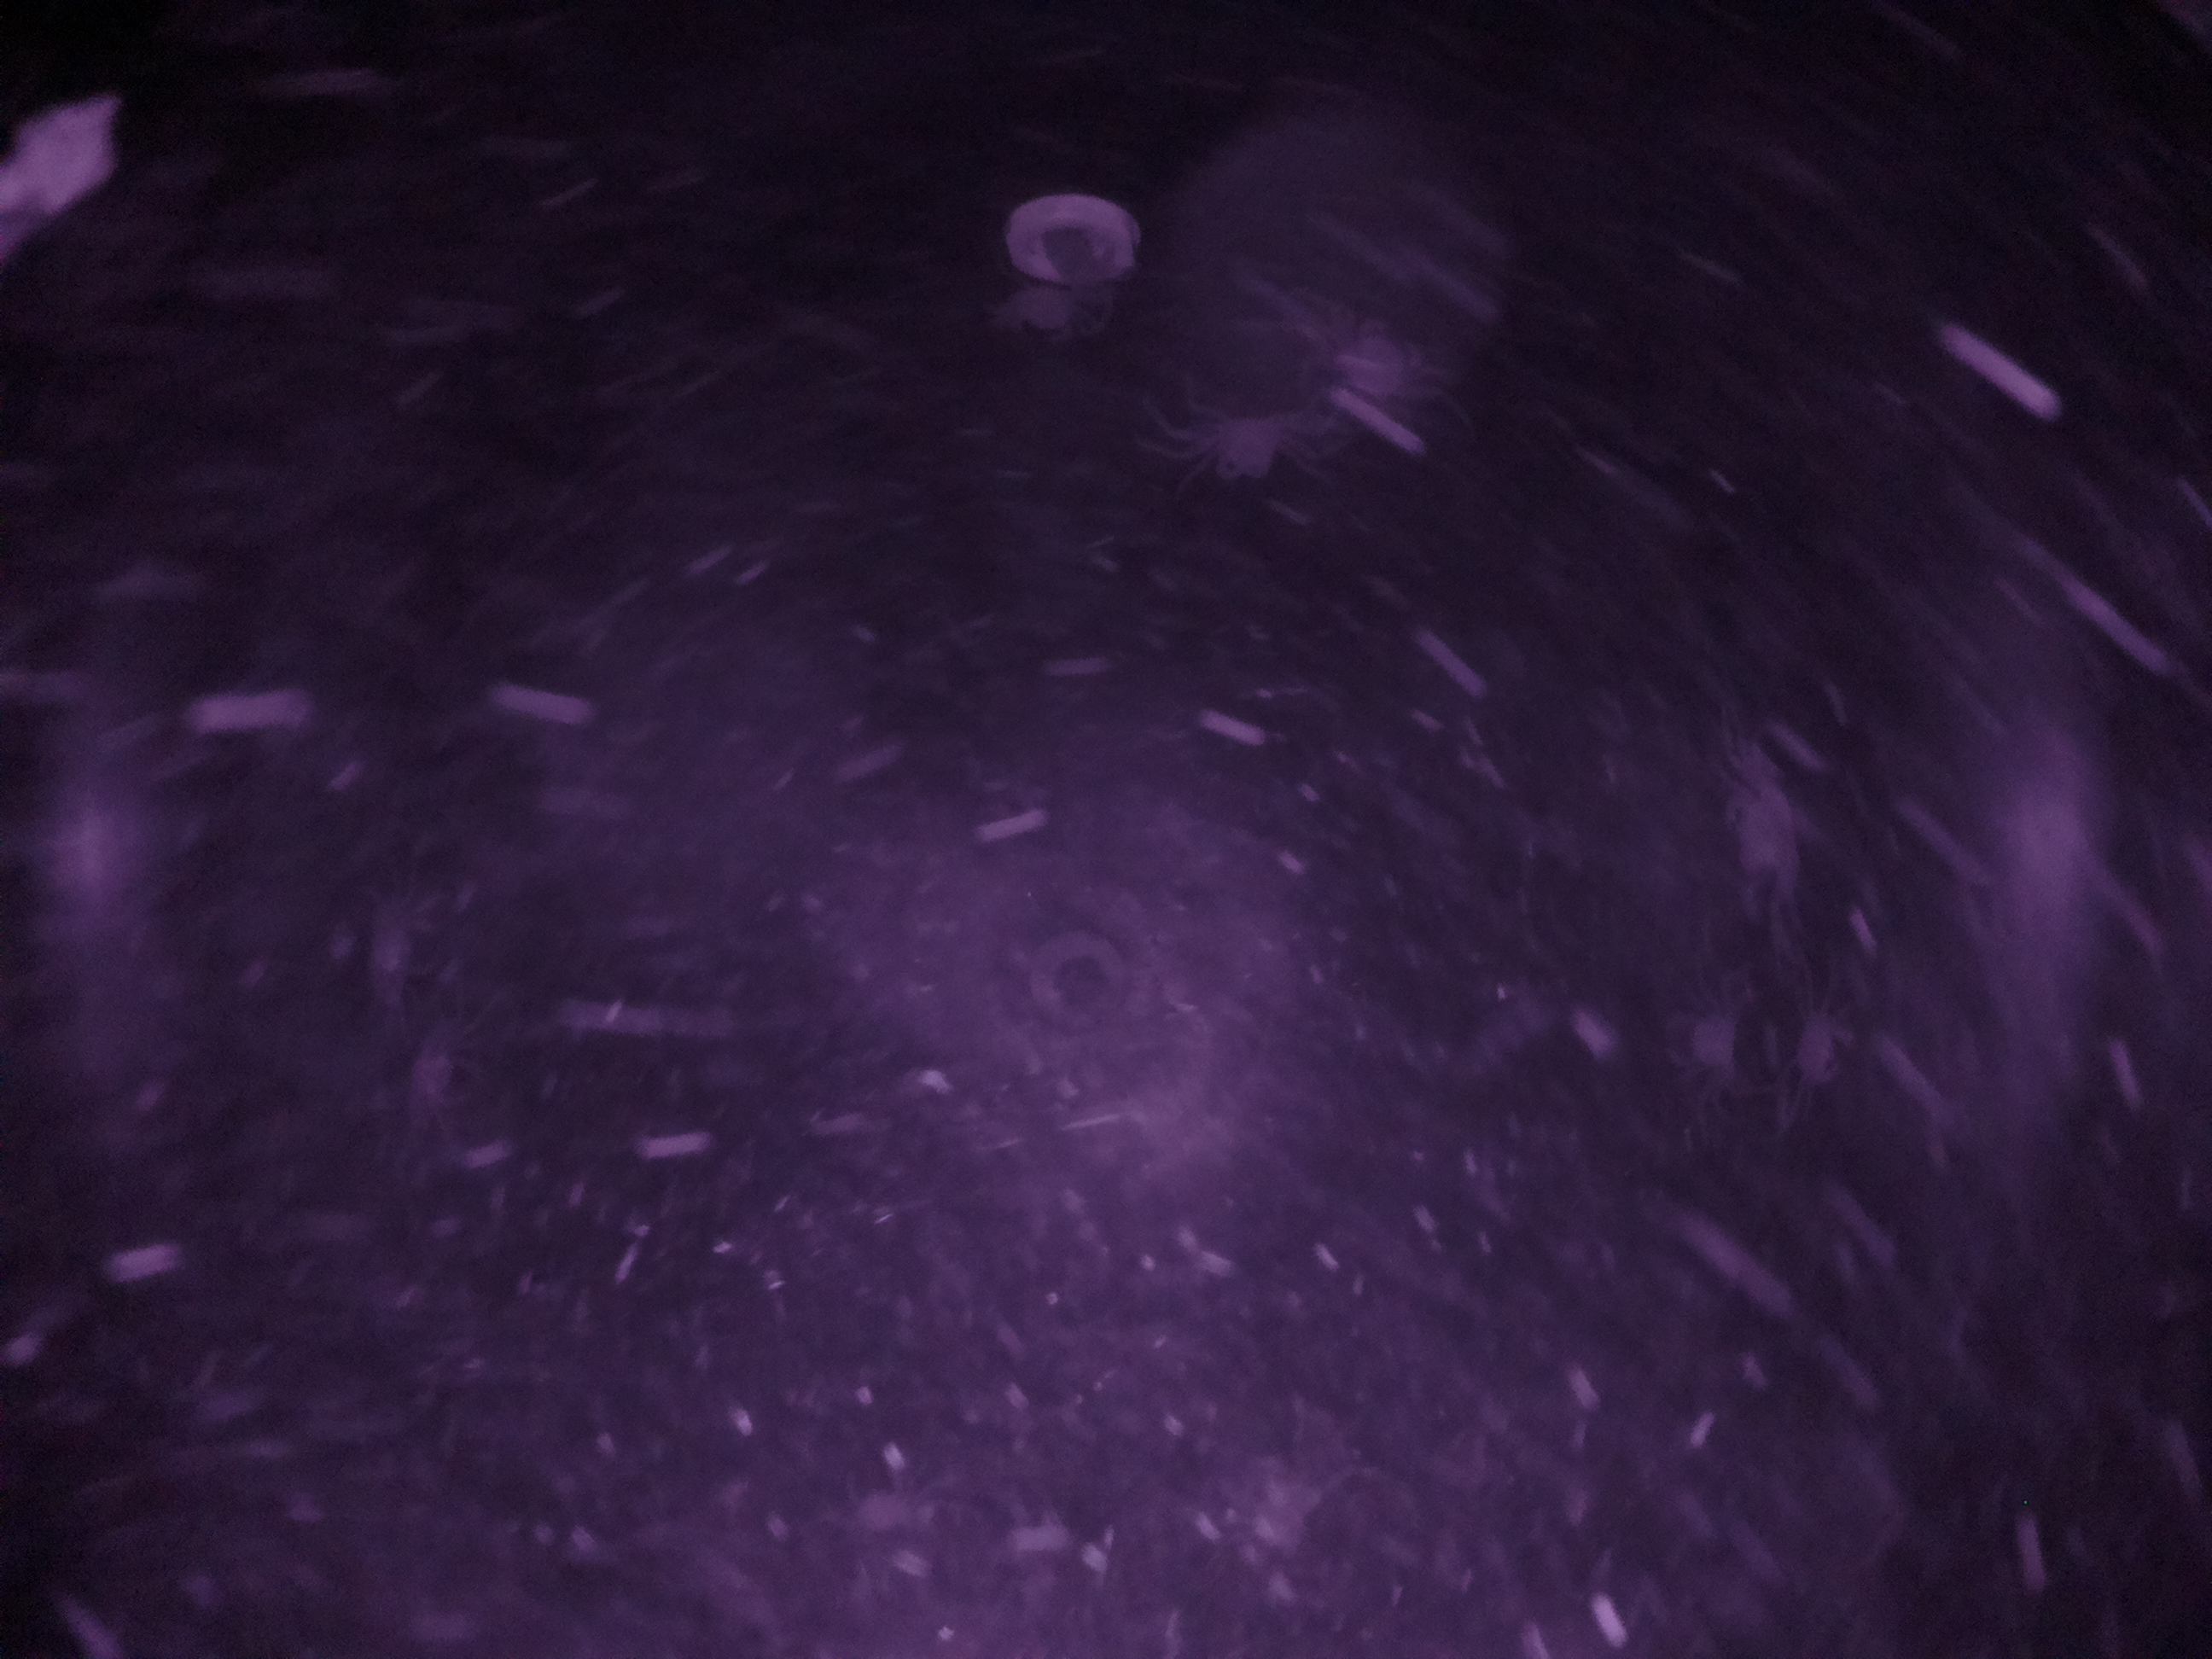Crab: (1179, 383, 1303, 521)
